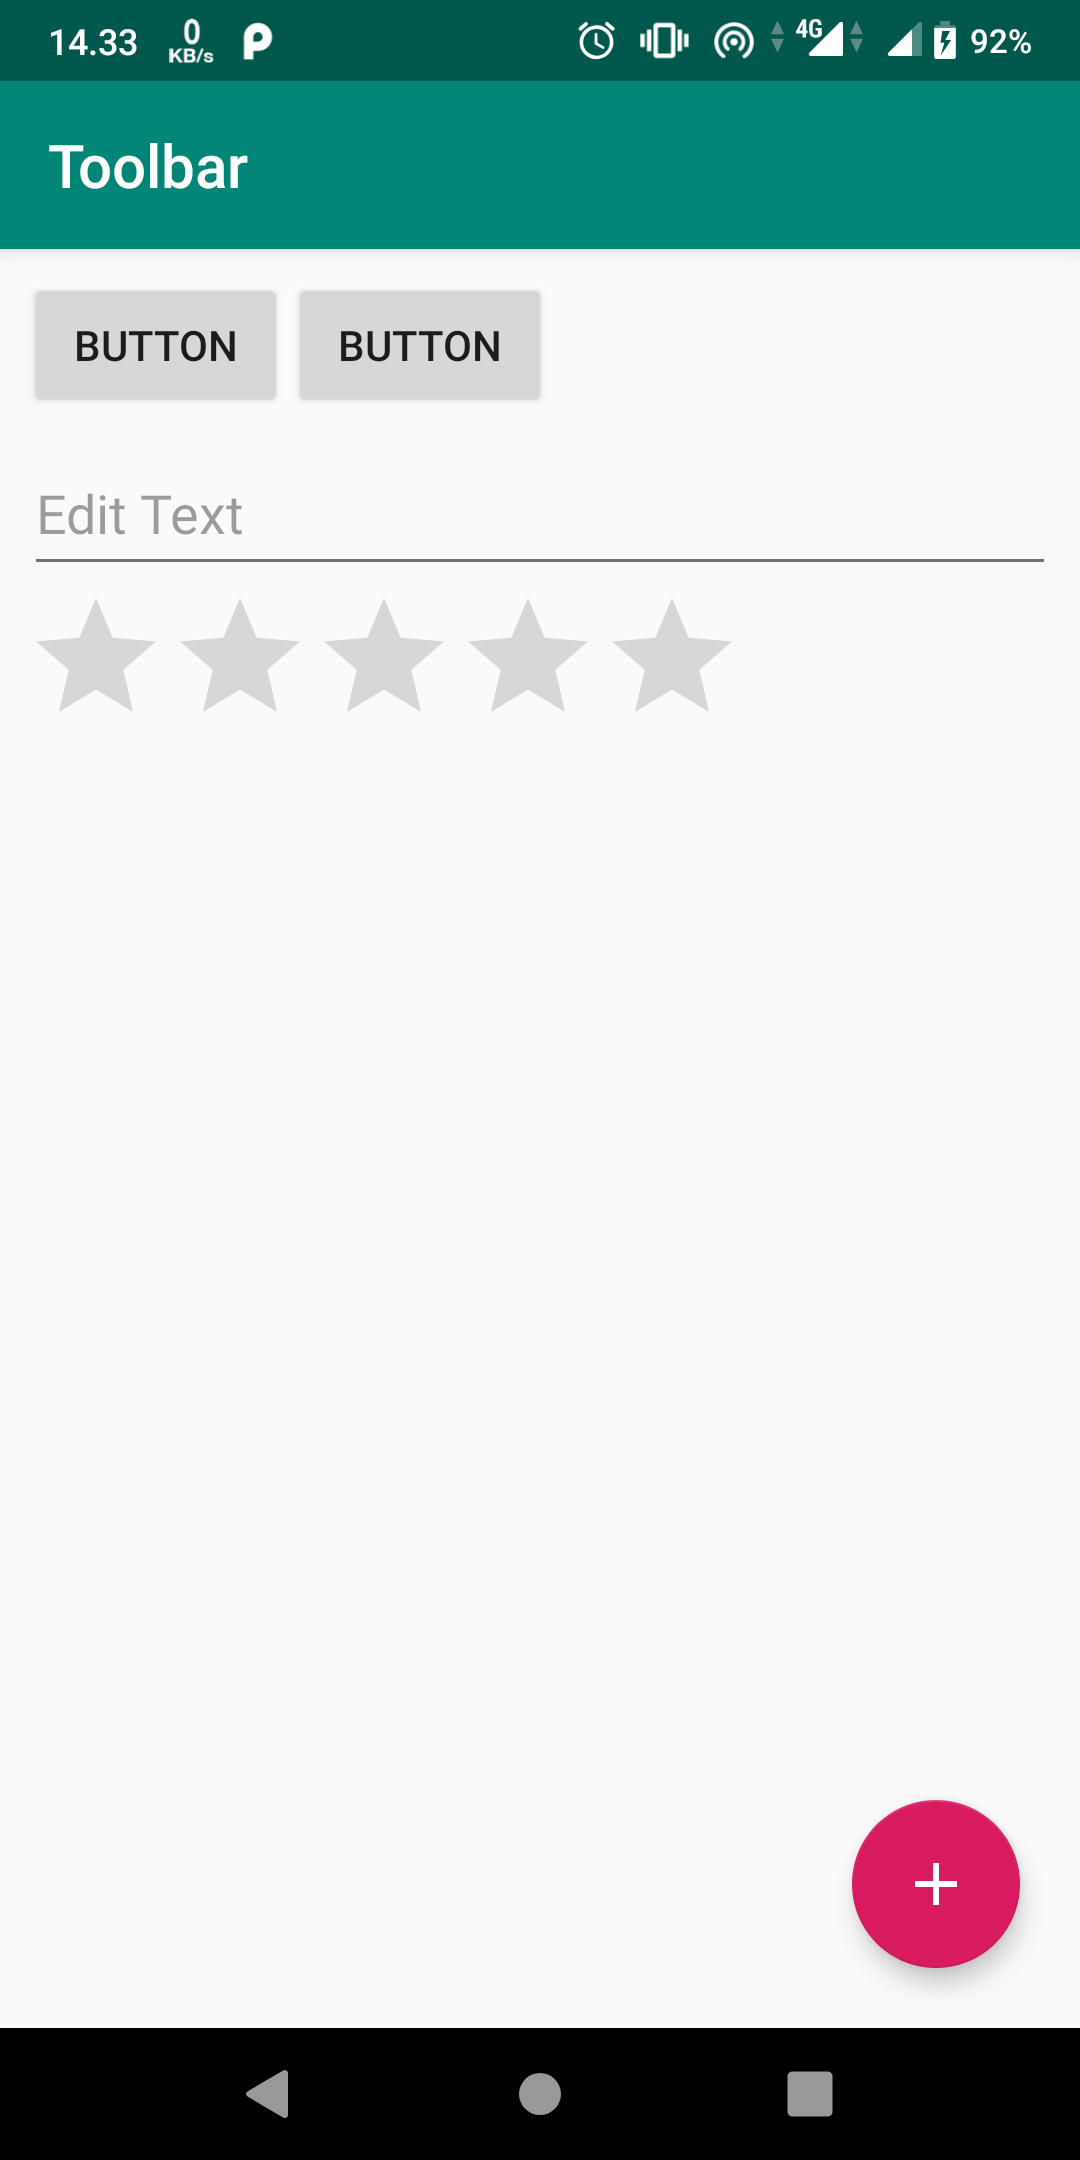button: (285, 277, 550, 415), (23, 280, 288, 415)
editText: (36, 479, 1055, 580)
floatingButton: (843, 1794, 1030, 1970)
ratingBar: (33, 592, 738, 722)
toolbar: (1, 85, 1080, 248)
